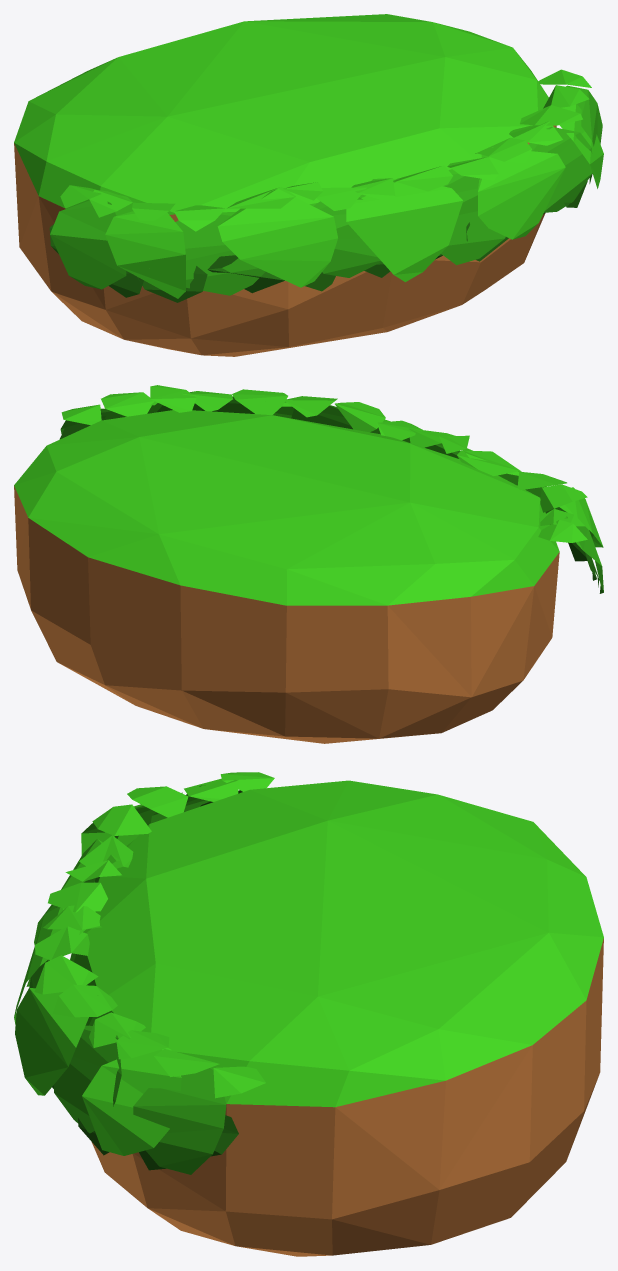
Rendered from FlyingGrass1.fbx.
3 renders of one model, top to bottom at view 1: azimuth 30°, elevation 25°; view 2: azimuth 150°, elevation 25°; view 3: azimuth 270°, elevation 25°, orthographic. The views are drawn at different scales.
Parts seen in each view (by area): view 1: Cube.001, Cube.002; view 2: Cube.001, Cube.002; view 3: Cube.001, Cube.002.
Boxes of the visible parts, x1,y1,x2,y2 form: Cube.001: [14, 14, 556, 356]; Cube.002: [49, 69, 603, 302]; Cube.001: [14, 410, 559, 743]; Cube.002: [59, 385, 603, 593]; Cube.001: [70, 780, 603, 1256]; Cube.002: [14, 772, 274, 1174].
Bounding box in the file's own units: 1344 × 544 × 989.
